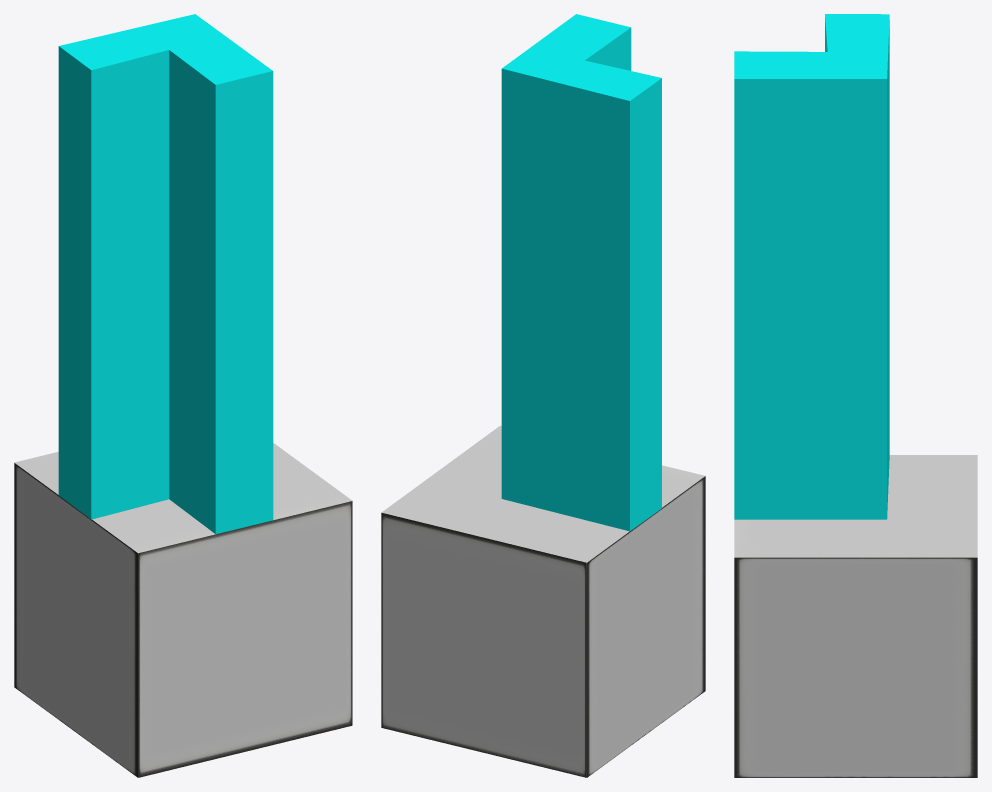
File: wallWindow1Corner.fbx
3 renders of one model, left to right at view 1: azimuth 30°, elevation 25°; view 2: azimuth 150°, elevation 25°; view 3: azimuth 270°, elevation 25°, orthographic. The views are drawn at different scales.
Parts seen in each view (by area): view 1: window5L, wallForWindow5L; view 2: wallForWindow5L, window5L; view 3: window5L, wallForWindow5L.
Part boxes in pixels (x1,y1,x2,y2): window5L: (58,14,273,534); wallForWindow5L: (14,443,352,777); wallForWindow5L: (381,426,705,777); window5L: (501,14,661,531); window5L: (734,14,889,519); wallForWindow5L: (734,455,977,777).
Bounding box in the file's own units: 1 × 3 × 1.
